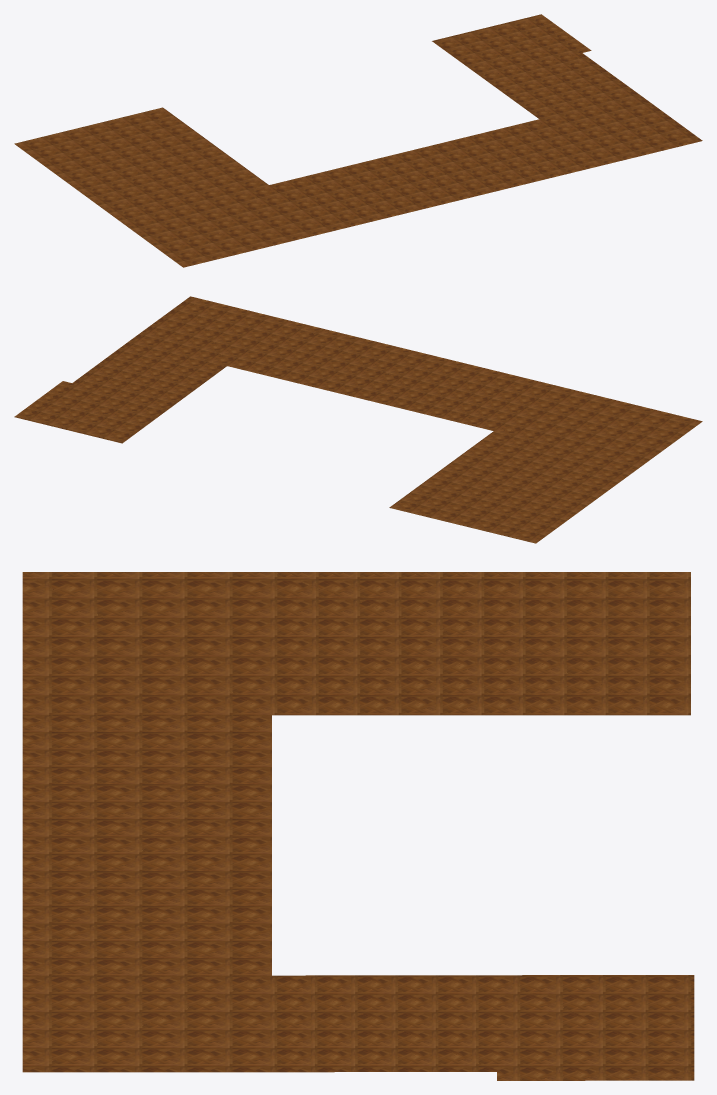
The model's file is Atrium_upperfloor.fbx.
3 renders of one model, top to bottom at view 1: azimuth 30°, elevation 25°; view 2: azimuth 150°, elevation 25°; view 3: azimuth 270°, elevation 25°, orthographic. The views are drawn at different scales.
Visible parts, largest first — view 1: Atrium floor_Upper; view 2: Atrium floor_Upper; view 3: Atrium floor_Upper.
Part boxes in pixels (x1,y1,x2,y2): Atrium floor_Upper: (14,14,702,267); Atrium floor_Upper: (14,296,702,543); Atrium floor_Upper: (22,572,694,1080).
Bounding box in the file's own units: 785 × 7.13e-05 × 437.
